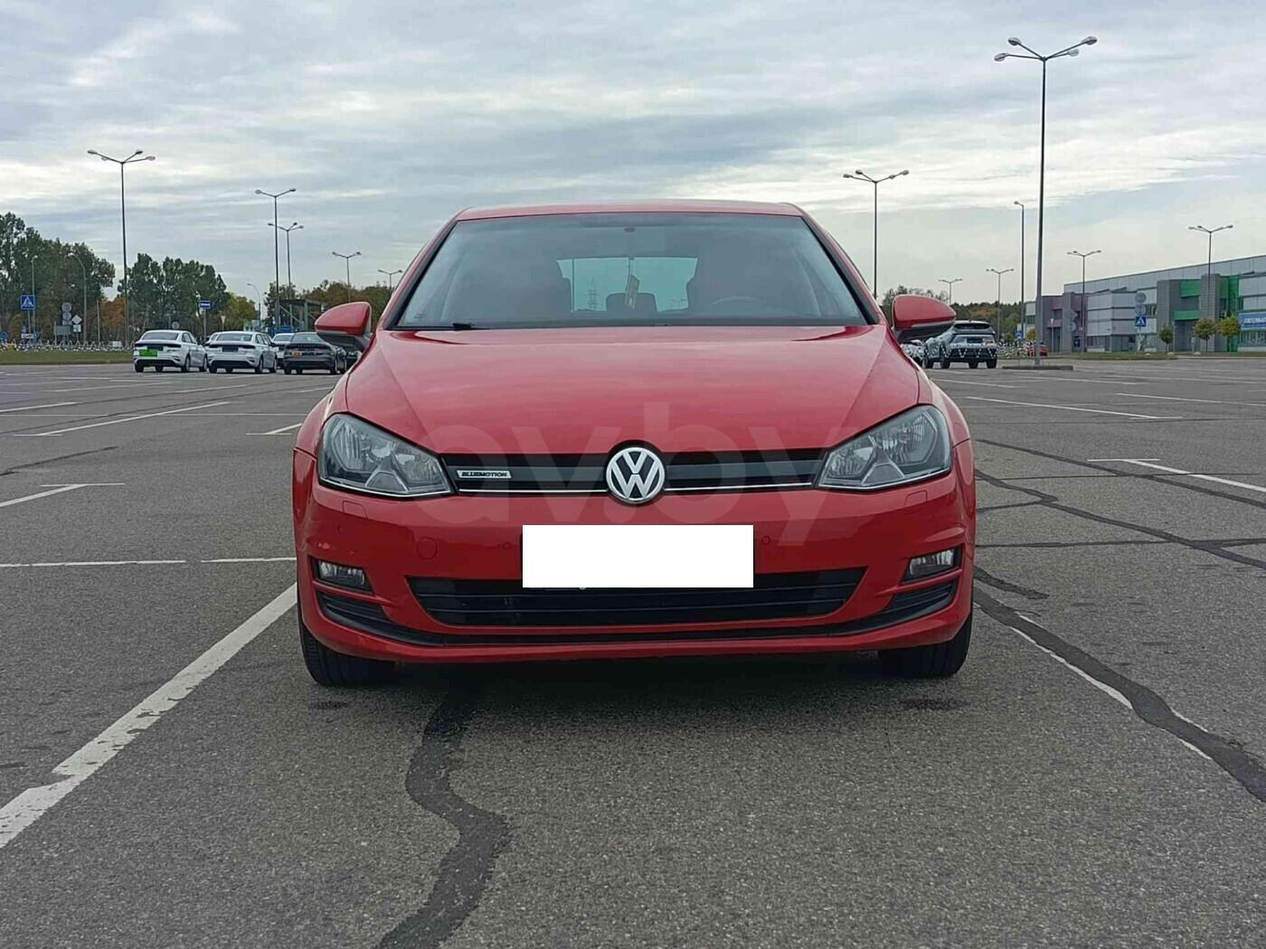Golf_2012-2017: (286, 194, 987, 705)
